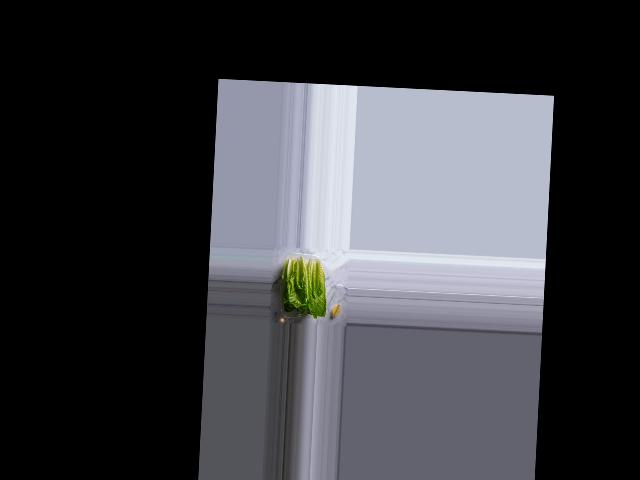lettuce: (278, 255, 331, 319)
